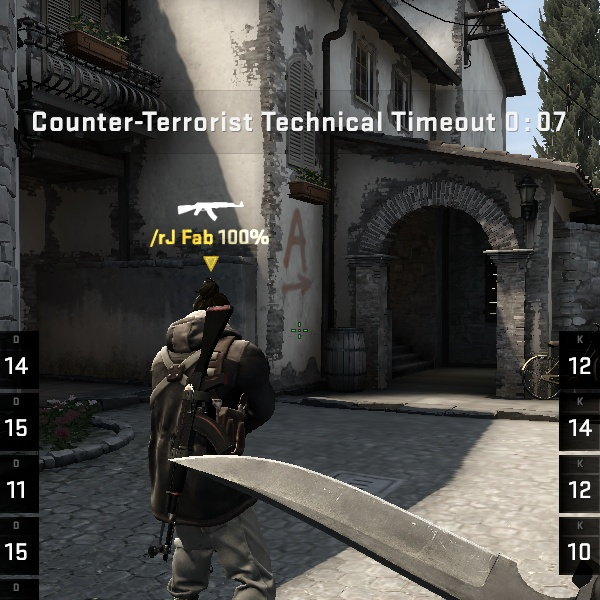ct_head: (181, 273, 242, 332)
t_body: (146, 272, 275, 465)
